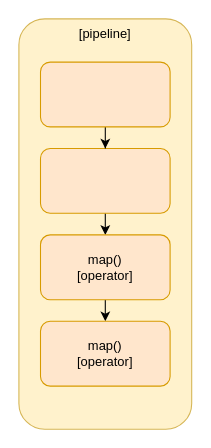
Some shapes in this 211 by 448 pixel diagram are drawn without their labels. Here are the shapes that lost their labels. From the top down, the box of each, then its label:
(39, 61, 170, 127): fromIterable() [source]
(39, 147, 170, 213): filter() [operator]
